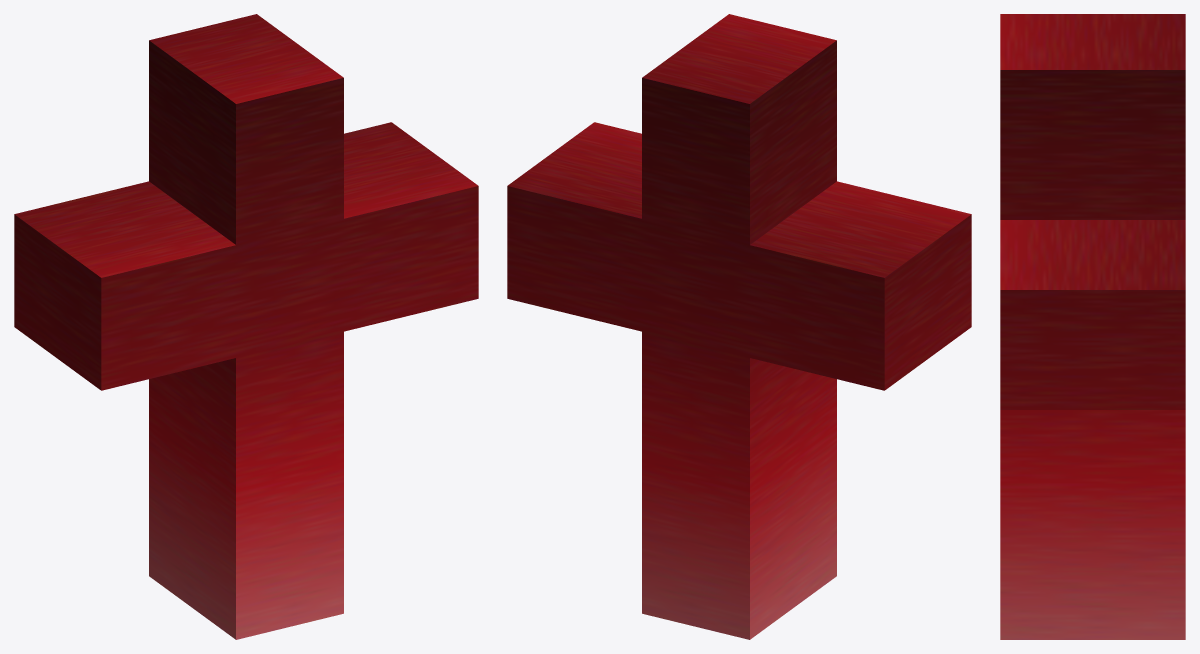
The model's file is Pickup_Health.fbx.
The picture shows the model from 3 angles, left to right: view 1: azimuth 30°, elevation 25°; view 2: azimuth 150°, elevation 25°; view 3: azimuth 270°, elevation 25°; orthographic projection. The views are drawn at different scales.
Parts seen in each view (by area): view 1: Pickup_Health; view 2: Pickup_Health; view 3: Pickup_Health.
Part boxes in pixels (left/top/right/bottom): Pickup_Health: left=14, top=14, right=478, bottom=639; Pickup_Health: left=507, top=14, right=971, bottom=639; Pickup_Health: left=1000, top=14, right=1185, bottom=639.
Bounding box in the file's own units: 280 × 380 × 112.
